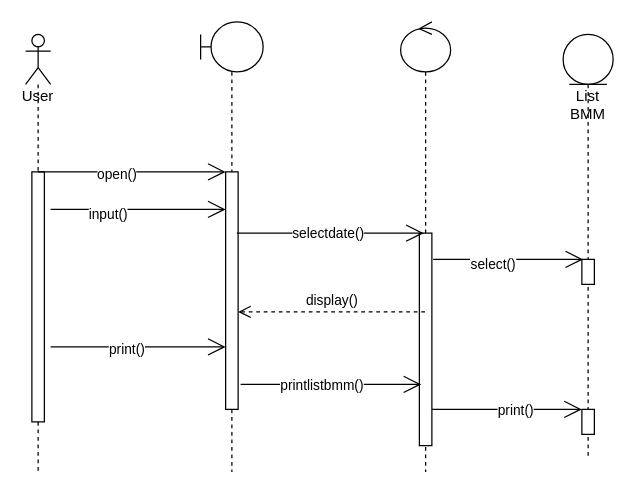
This 635x494 diagram has some shape labels left out. The box of each missing label's shape, as (x1, y1, x2, y2) in pixels:
Control Report List BMM by Date: (399, 21, 451, 472)
Halaman Report List BMM by Date: (199, 21, 263, 472)
